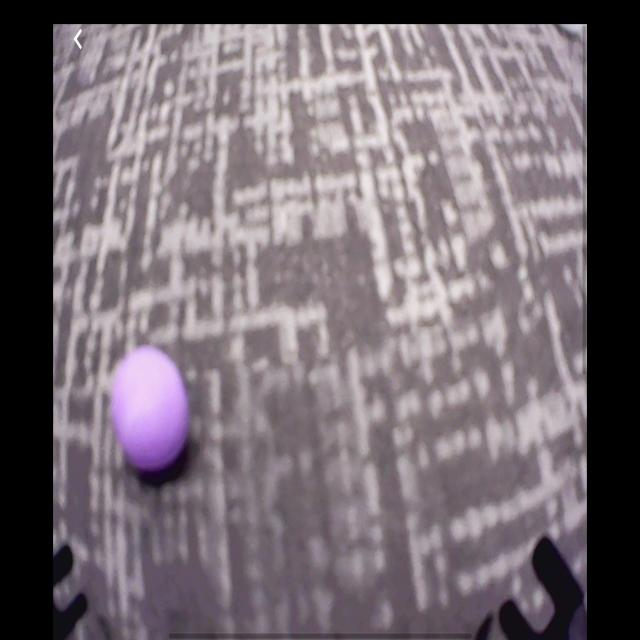ball: (111, 345, 190, 476)
